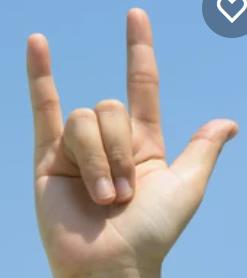back: (23, 5, 247, 271)
